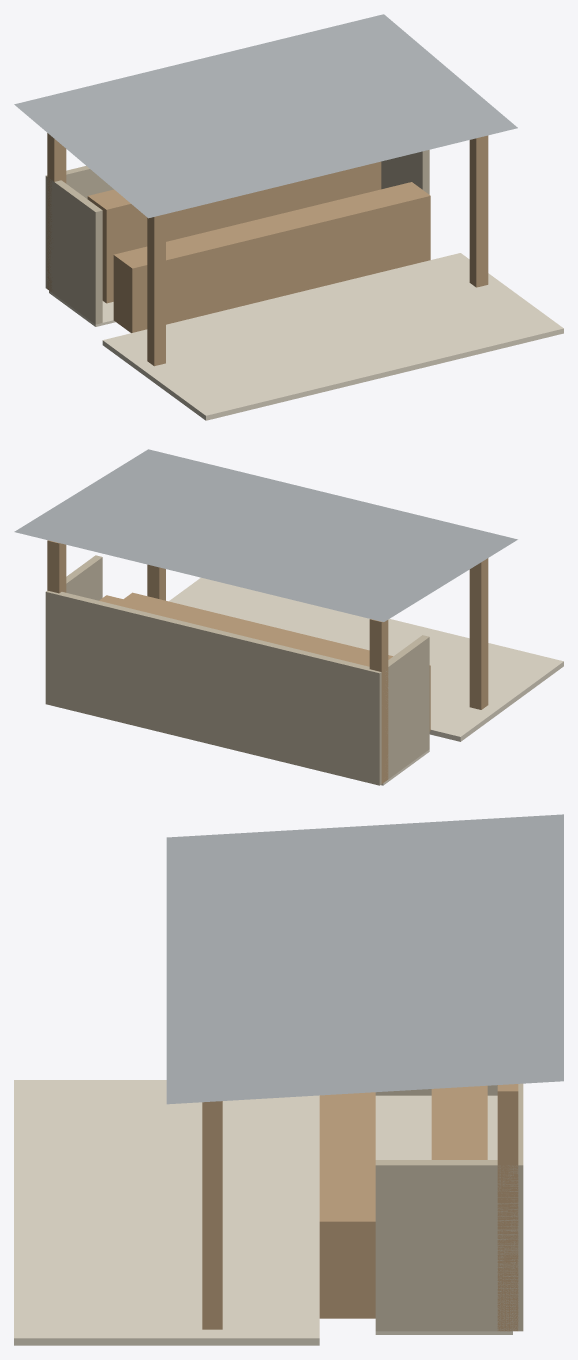
Rendered from farmstead-produce-stand.lod1.glb.
3 views of the same model, one above another, from view 1: azimuth 30°, elevation 25°; view 2: azimuth 150°, elevation 25°; view 3: azimuth 270°, elevation 25° (orthographic). The views are drawn at different scales.
Size of the model in its own units: 6.2 by 2.91 by 5.4.
